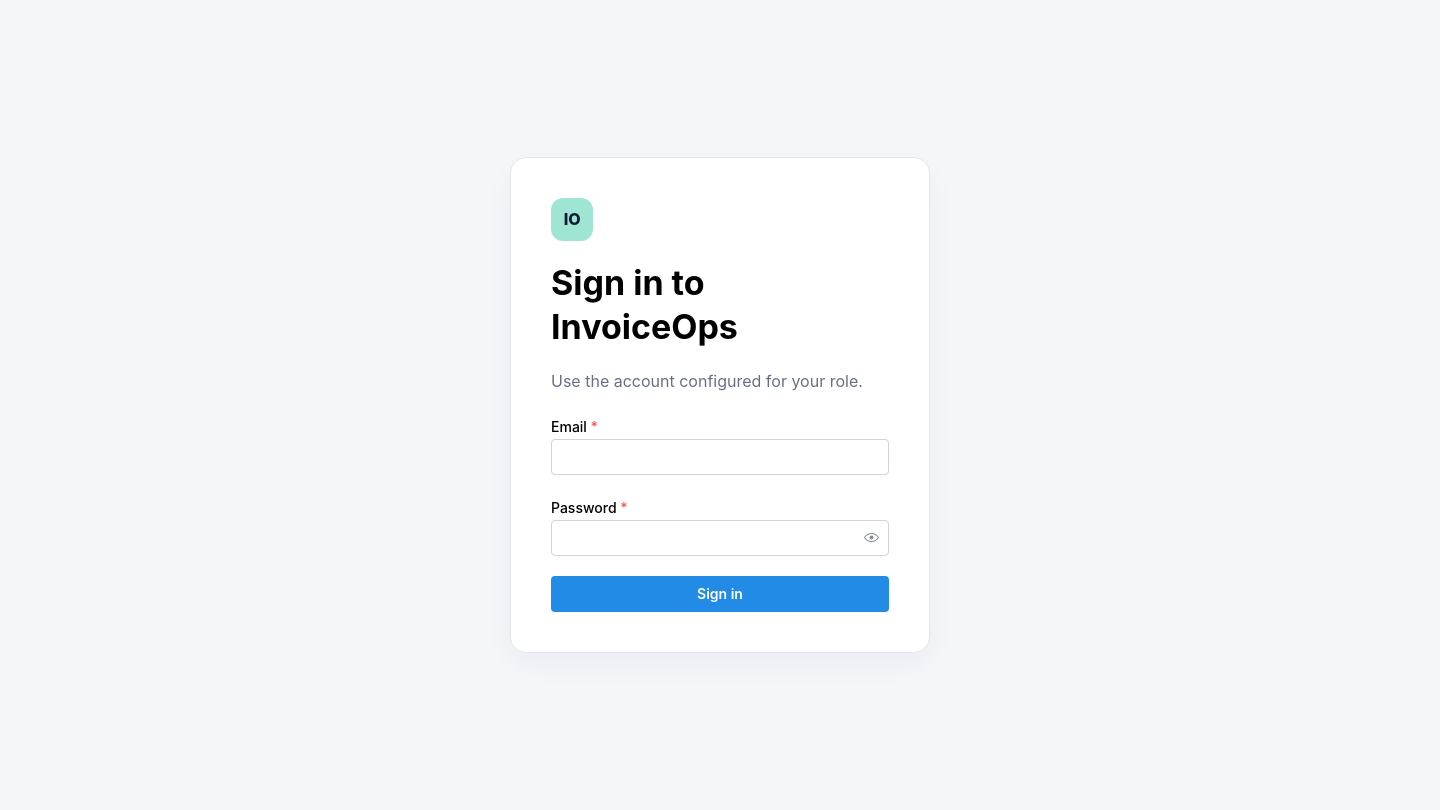
Test: email/password login opens only the server-assigned role's workspace
This screenshot has width=1440, height=810.
Check: the heading "Sign in to InvoiceOps" is shown, box [551, 262, 738, 347]
Type "platform@example.test" into the field labelled "Email". click: {"x": 720, "y": 457}
box: [551, 439, 889, 475]
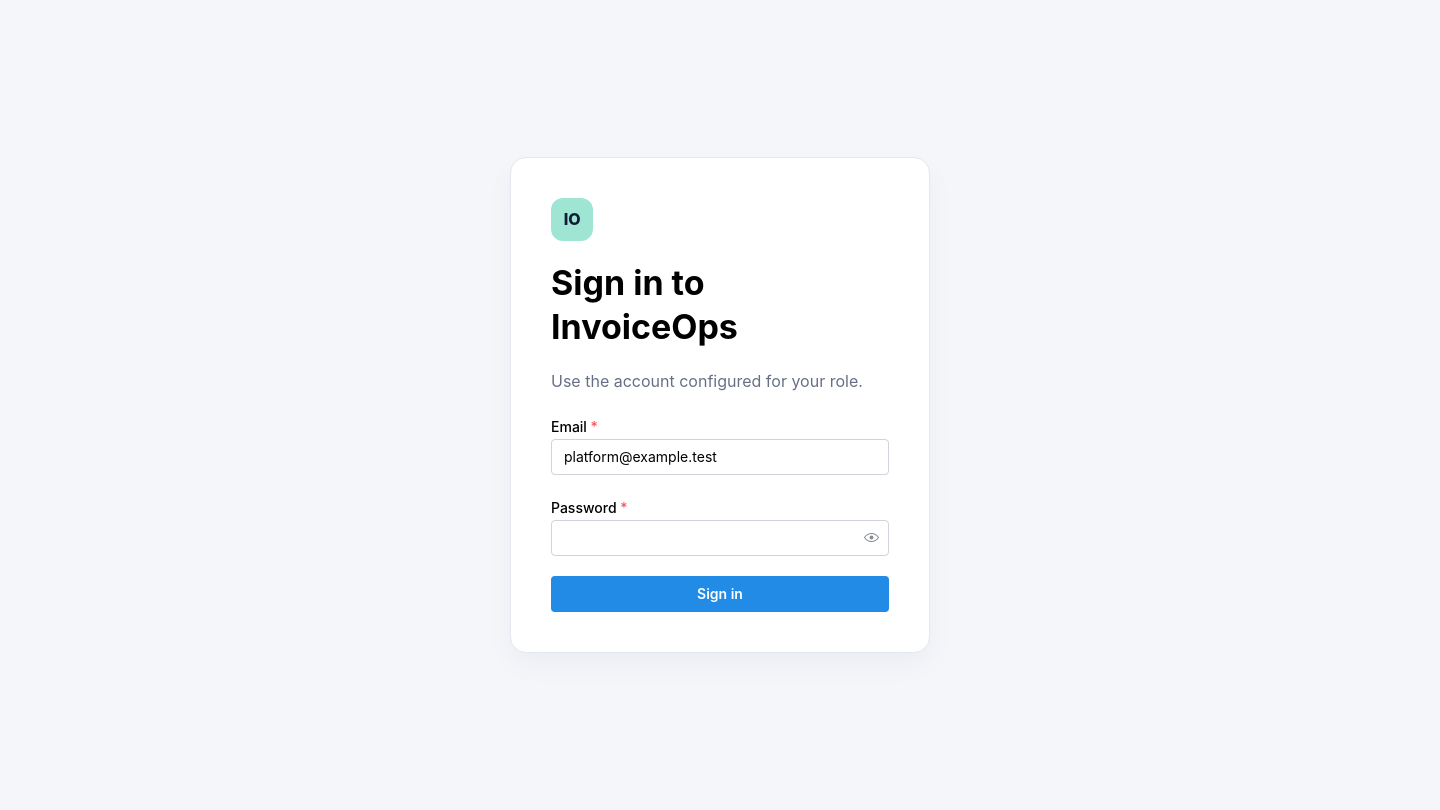
Type "synthetic-password" into the password field labelled "Password *". click: {"x": 720, "y": 538}
box: [552, 521, 888, 555]
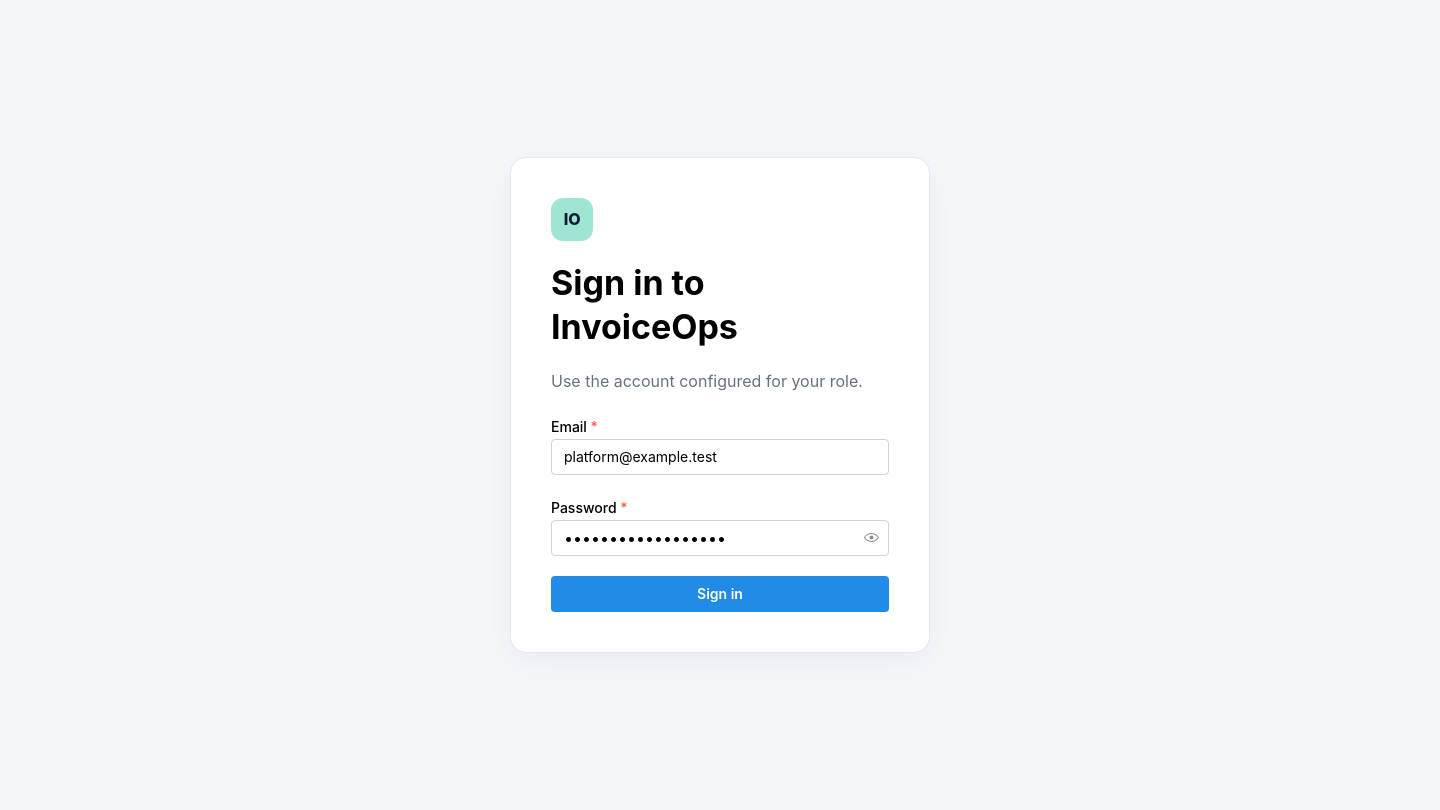
Click the button "Sign in". click: {"x": 720, "y": 594}
box: [551, 576, 889, 612]
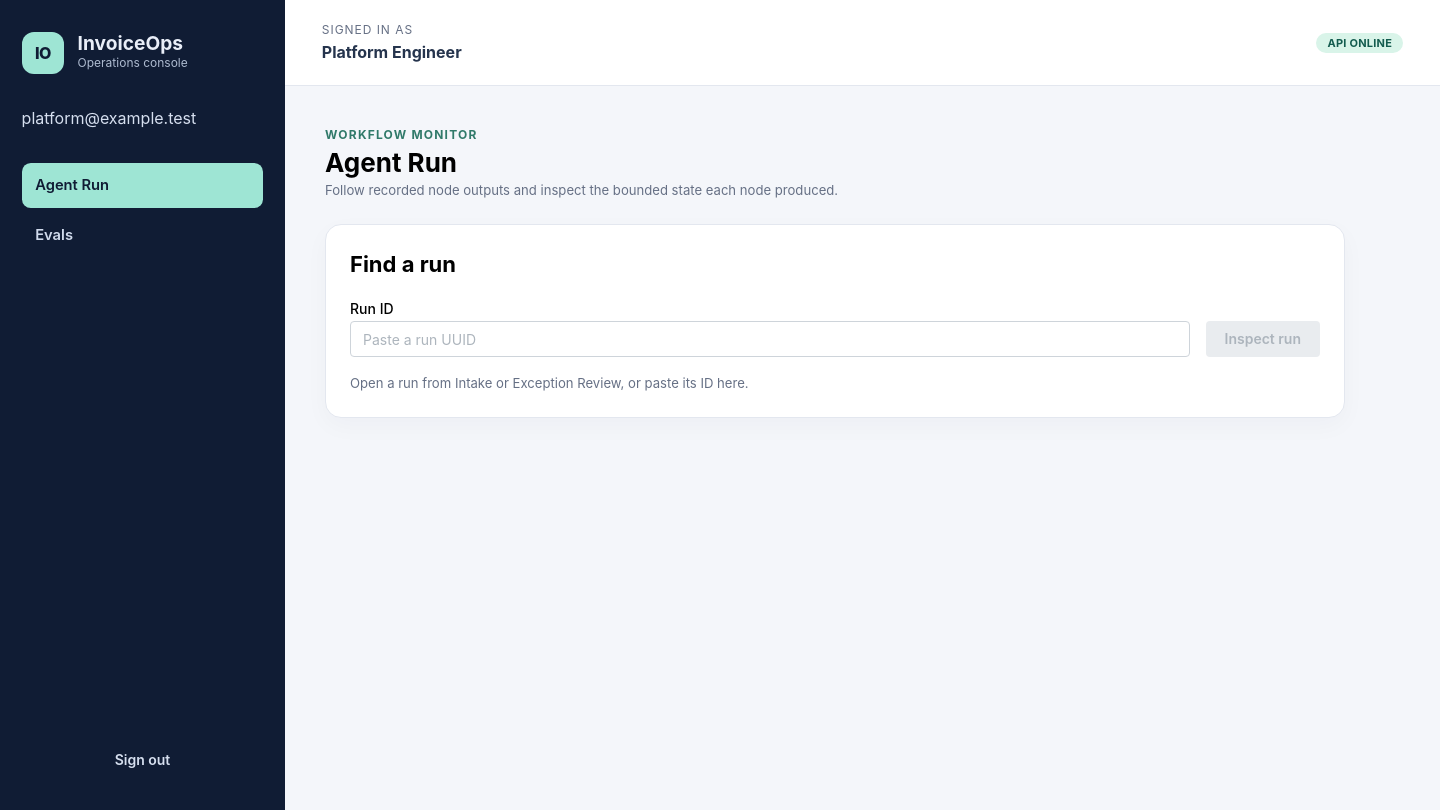
Check: the text "Platform Engineer" is shown, box [322, 40, 462, 64]
Check: the navigation bar named "Workspace" shows "Evals", box [22, 213, 263, 258]
